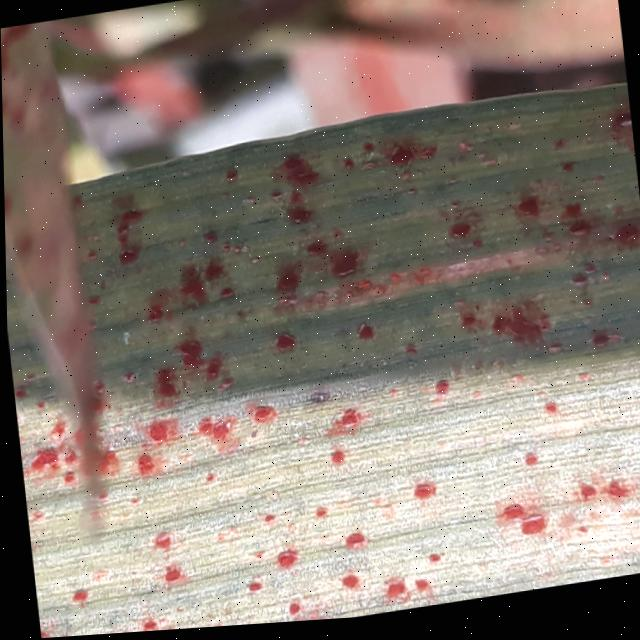orang_rust: (2, 71, 640, 640), (0, 14, 126, 550)
